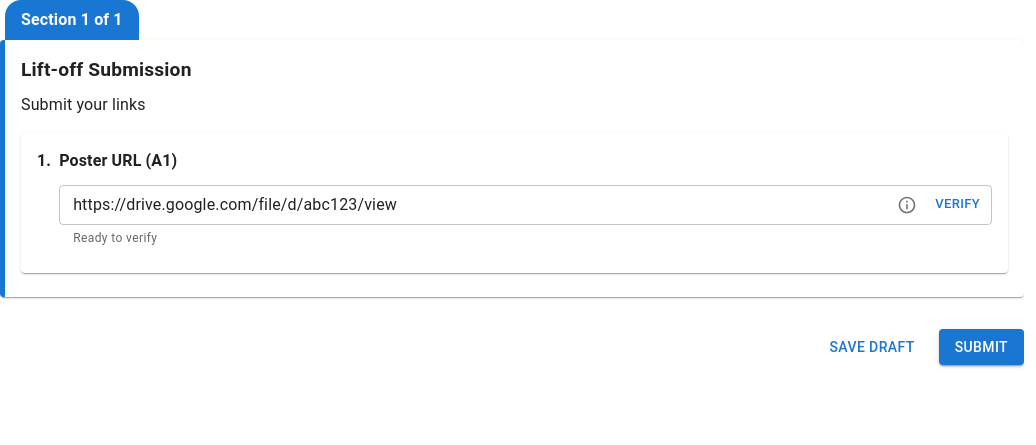
QuestionSectionsList › blocks submission when Drive verification fails and surfaces the validation message
This screenshot has width=1036, height=445.
Step 1. Click the button "Submit" → (981, 347), box [939,329,1024,365]
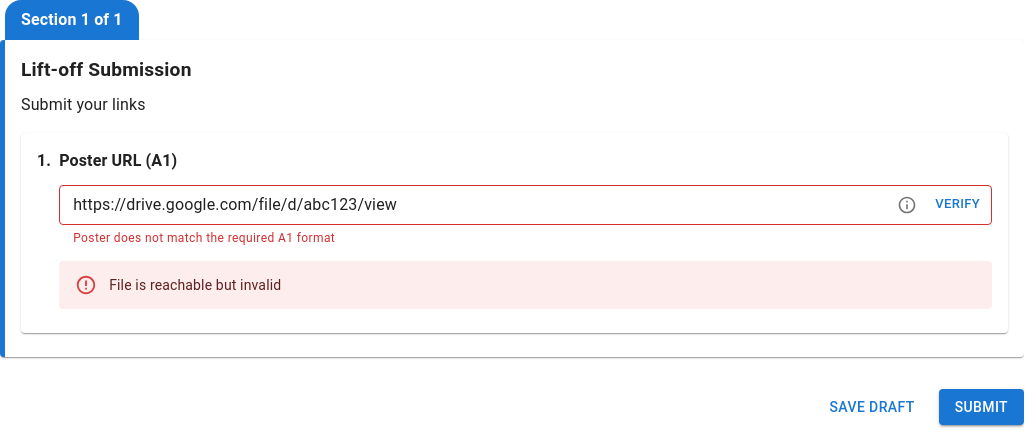
Expected: the text "Poster does not match the required A1 format" is shown, [73,231,335,245]
